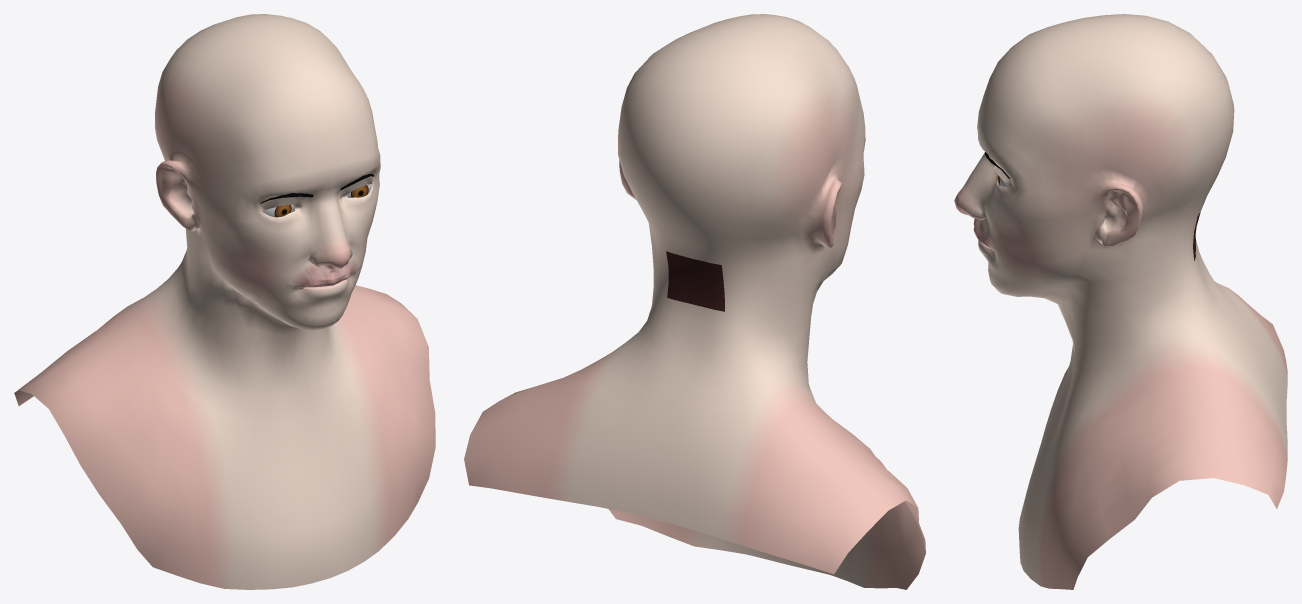
File: Bust_animated.glb
3 renders of one model, left to right at view 1: azimuth 30°, elevation 25°; view 2: azimuth 150°, elevation 25°; view 3: azimuth 270°, elevation 25°, orthographic. The views are drawn at different scales.
Visible parts, largest first — view 1: Basemesh; view 2: Basemesh; view 3: Basemesh.
Boxes of the visible parts, x1,y1,x2,y2 form: Basemesh: (14, 14, 435, 589); Basemesh: (464, 14, 925, 589); Basemesh: (954, 14, 1287, 589).
Size of the model in its own units: 3.52 by 4.74 by 2.7.
Materials: 9 (4 with a texture image).
